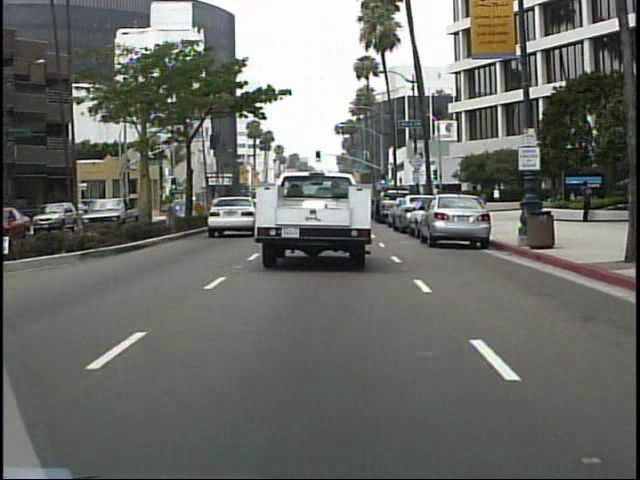person: (580, 178, 598, 225)
